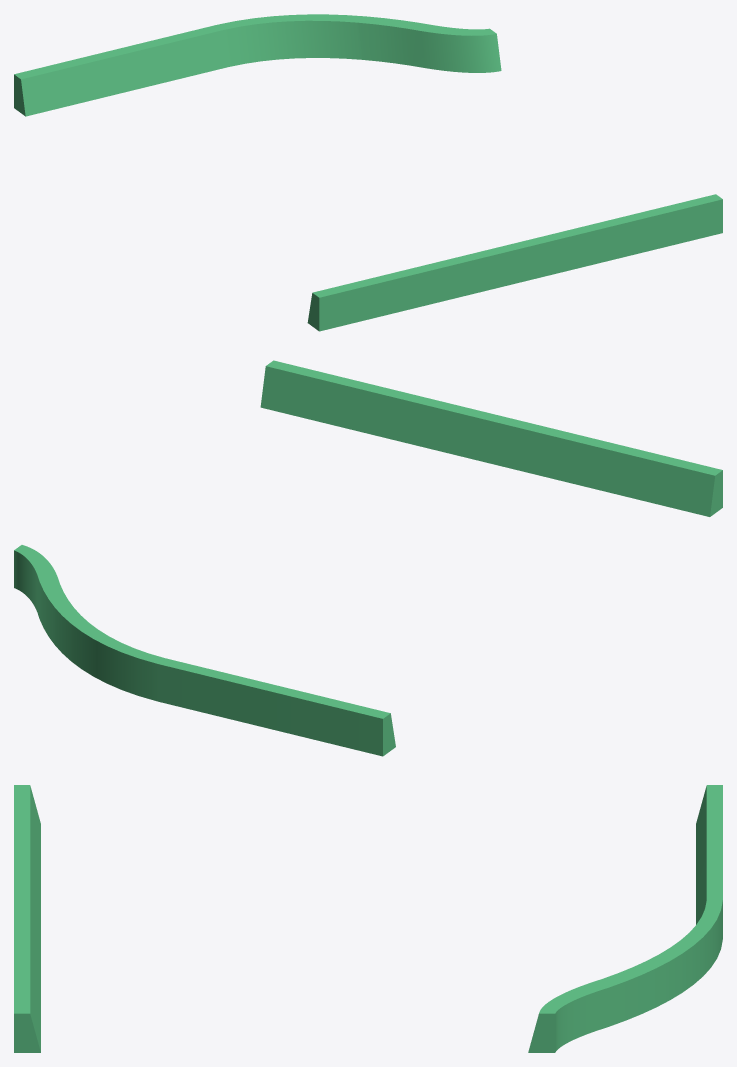
File: road_side_entry_barrier.glb
3 views of the same model, one above another, from view 1: azimuth 30°, elevation 25°; view 2: azimuth 150°, elevation 25°; view 3: azimuth 270°, elevation 25° (orthographic). The views are drawn at different scales.
Visible parts, largest first — view 1: road-side-entry-barrier; view 2: road-side-entry-barrier; view 3: road-side-entry-barrier.
Part boxes in pixels (<box>): road-side-entry-barrier: <box>14,14,722,331</box>; road-side-entry-barrier: <box>14,360,722,756</box>; road-side-entry-barrier: <box>14,785,722,1052</box>.
Bounding box in the file's own units: 1 × 0.08 × 1.31.
Materials: 1 (1 with a texture image).
